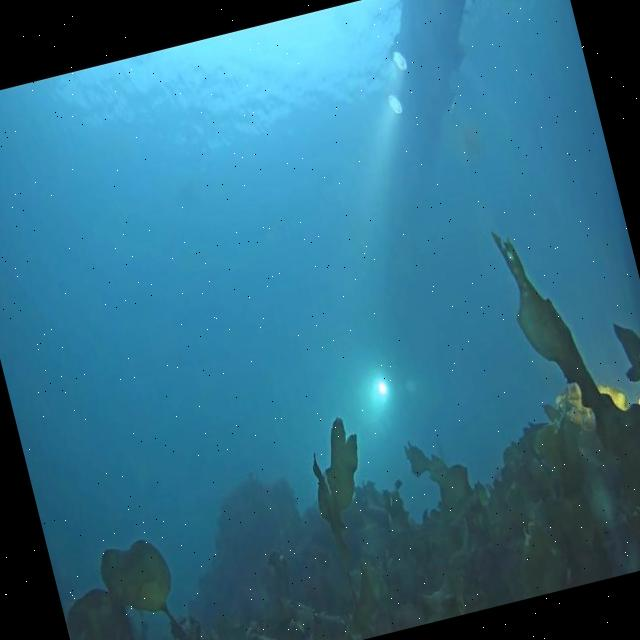fish: (432, 434, 449, 466)
